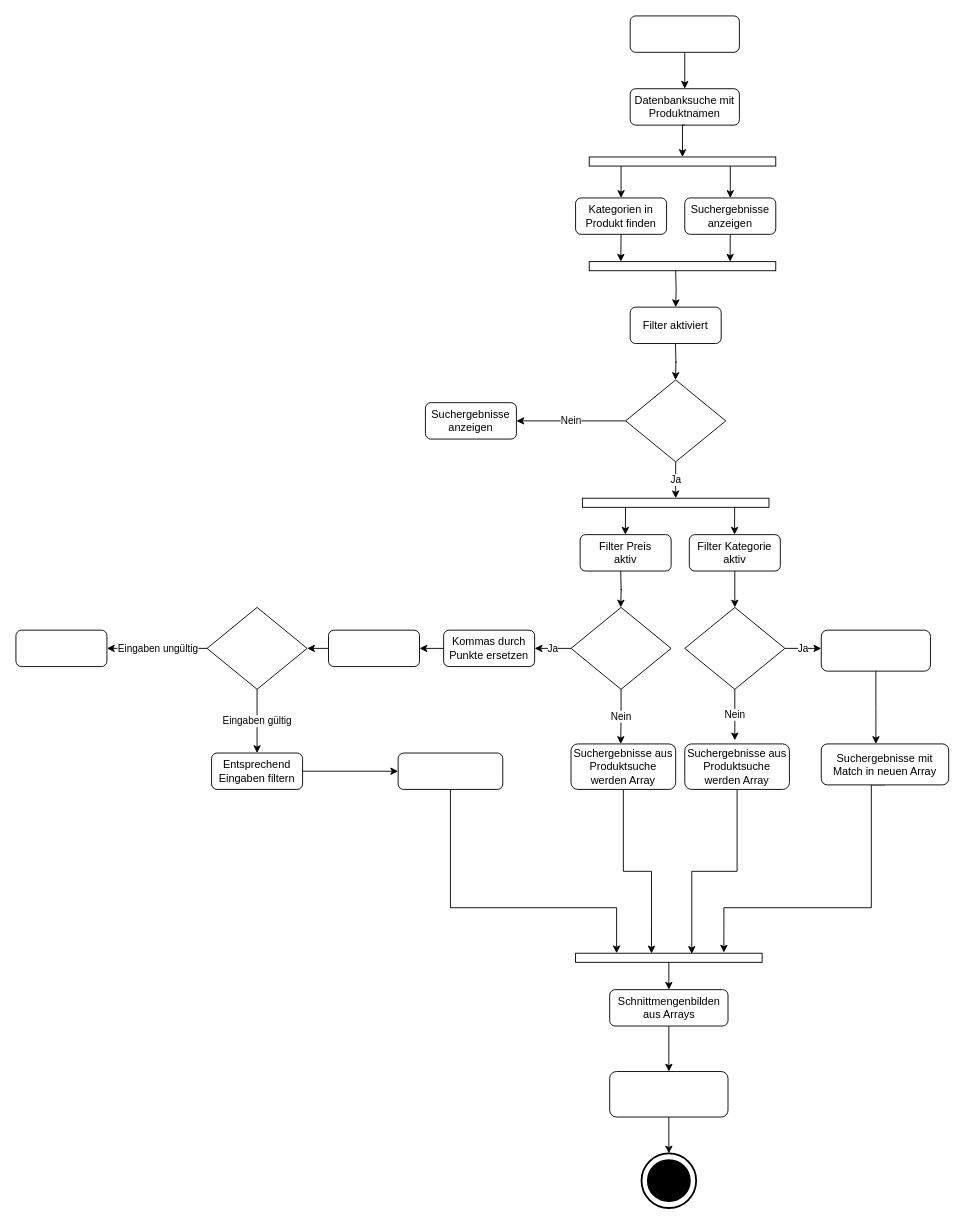
The diagram is 965 pixels wide and 1225 high, and some of its shapes have lost their labels. The centre of each missing label's shape, as x and y in pixels:
"aktivierte Checkboxen prüfen" goes at (x=875, y=650).
"Array mit gefilterten Objekten erstellen" goes at (x=450, y=770).
"Eingabe Suchbegriff" goes at (x=684, y=33).
"Filtereingaben prüfen" goes at (x=374, y=648).
"Rückmeldung an Nutzer" goes at (x=61, y=648).
"Schnittmengen als Suchergebnisse ausgeben" goes at (x=668, y=1094).
